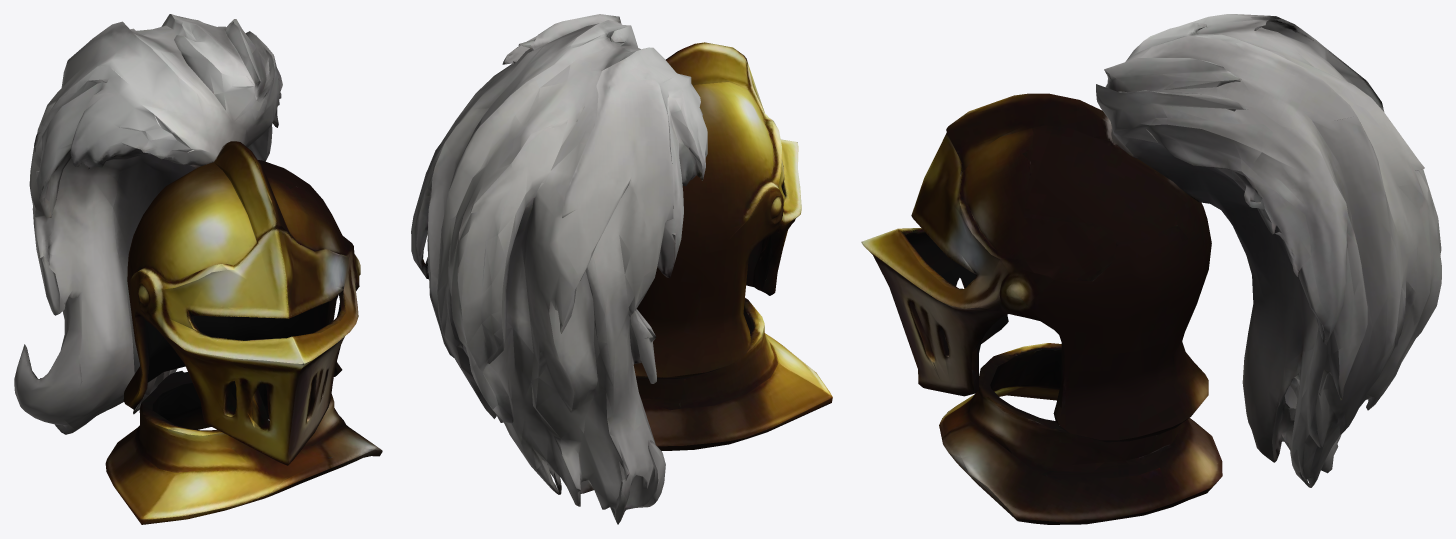
The model's file is dawn_helm.glb.
3 views of the same model, side by side, from view 1: azimuth 30°, elevation 25°; view 2: azimuth 150°, elevation 25°; view 3: azimuth 270°, elevation 25° (orthographic). The views are drawn at different scales.
Visible parts, largest first — view 1: world; view 2: world; view 3: world.
Boxes of the visible parts, bbox=[...] form: world: bbox=[14, 14, 382, 524]; world: bbox=[411, 14, 832, 524]; world: bbox=[861, 14, 1441, 524].
Size of the model in its own units: 0.2698 by 0.4089 by 0.4534.
1 material, 1 textured.
